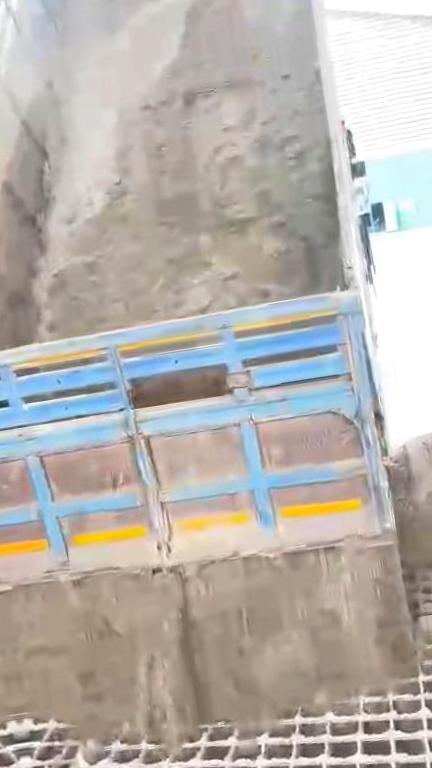sand: (43, 0, 342, 338), (2, 548, 414, 744), (392, 415, 432, 630)
